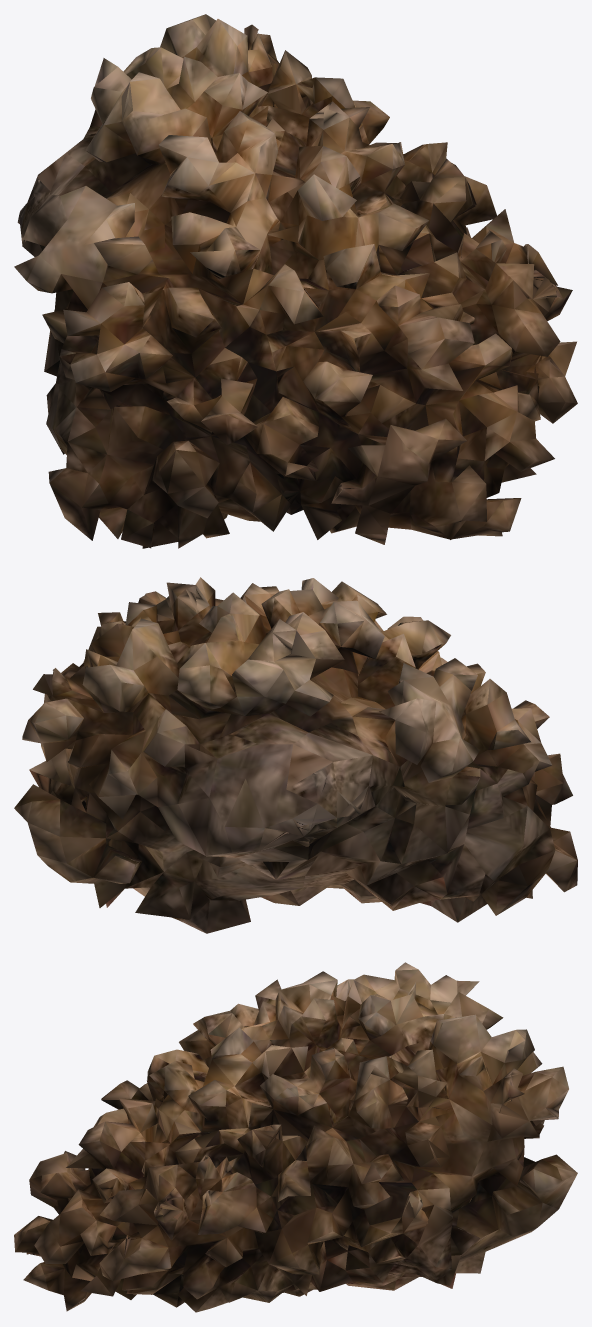
File: scan_coral_cauliflower.glb
3 views of the same model, one above another, from view 1: azimuth 30°, elevation 25°; view 2: azimuth 150°, elevation 25°; view 3: azimuth 270°, elevation 25° (orthographic). The views are drawn at different scales.
Parts seen in each view (by area): view 1: scan_coral_cauliflower; view 2: scan_coral_cauliflower; view 3: scan_coral_cauliflower.
Part boxes in pixels (box(x1,y1,x2,y2)): scan_coral_cauliflower: box(14, 14, 577, 548); scan_coral_cauliflower: box(14, 577, 577, 933); scan_coral_cauliflower: box(14, 962, 577, 1312).
Size of the model in its own units: 0.4457 by 0.312 by 0.5408.
1 material, 1 textured.
